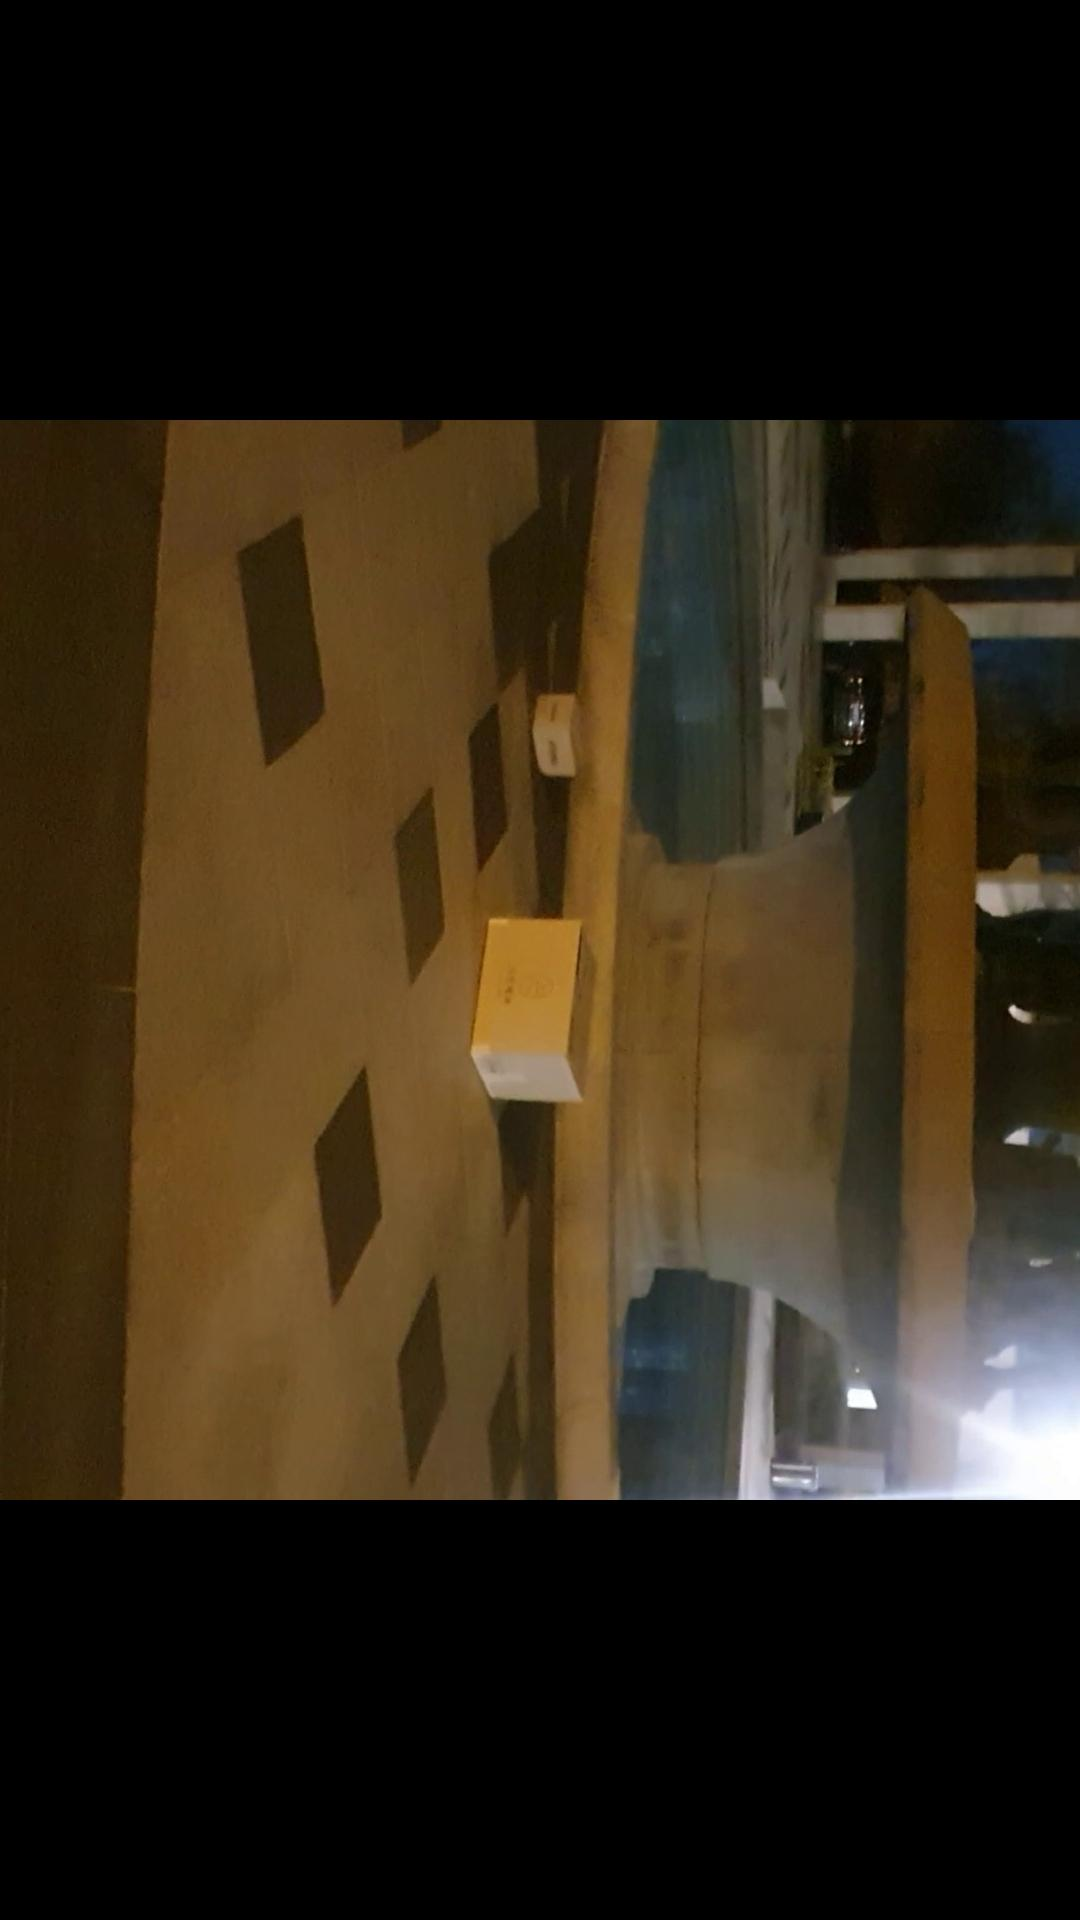Box: (465, 909, 600, 1102), (520, 694, 607, 777)
